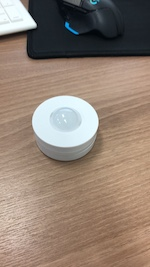bulb: (32, 95, 100, 161)
